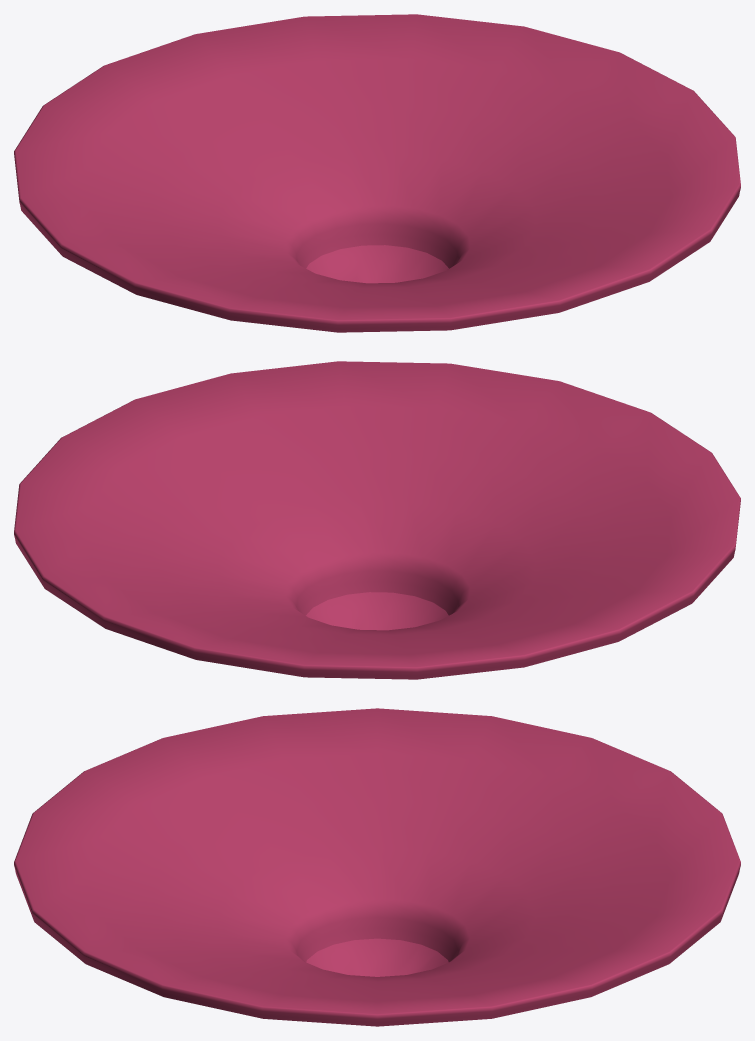
The picture shows the model from 3 angles, top to bottom: view 1: azimuth 30°, elevation 25°; view 2: azimuth 150°, elevation 25°; view 3: azimuth 270°, elevation 25°; orthographic projection.
Parts seen in each view (by area): view 1: 2541041; view 2: 2541041; view 3: 2541041.
Part boxes in pixels (box(x1,y1,x2,y2)): 2541041: box(14, 14, 740, 332); 2541041: box(14, 361, 740, 679); 2541041: box(14, 708, 740, 1026).
Size of the model in its own units: 157 by 32.3 by 157.
